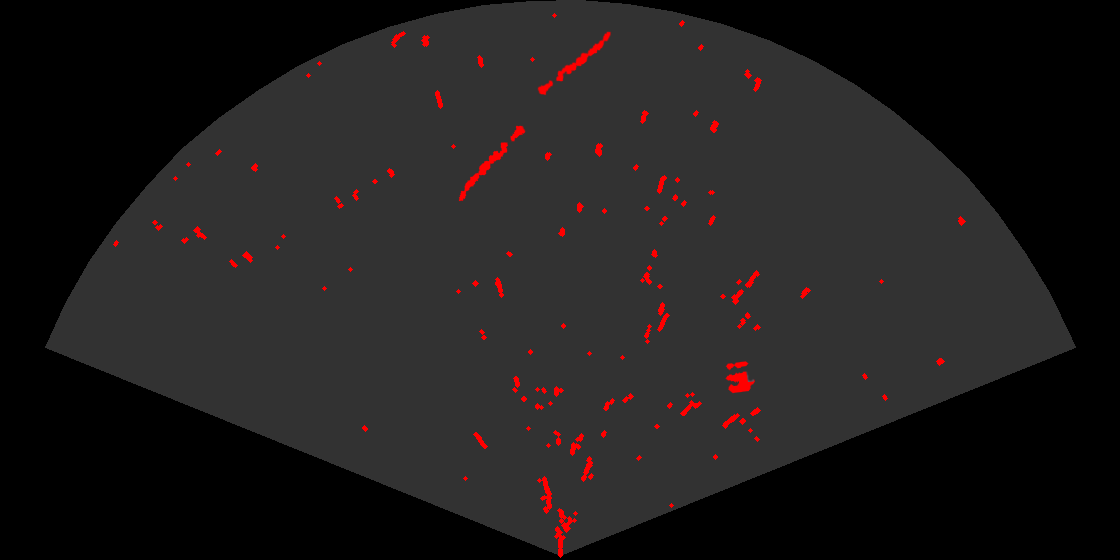ball: (724, 360, 756, 395)
chain: (457, 124, 527, 203), (536, 30, 613, 97)
